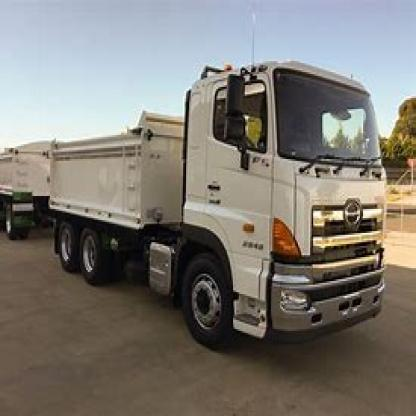dump_truck: (41, 58, 396, 360)
